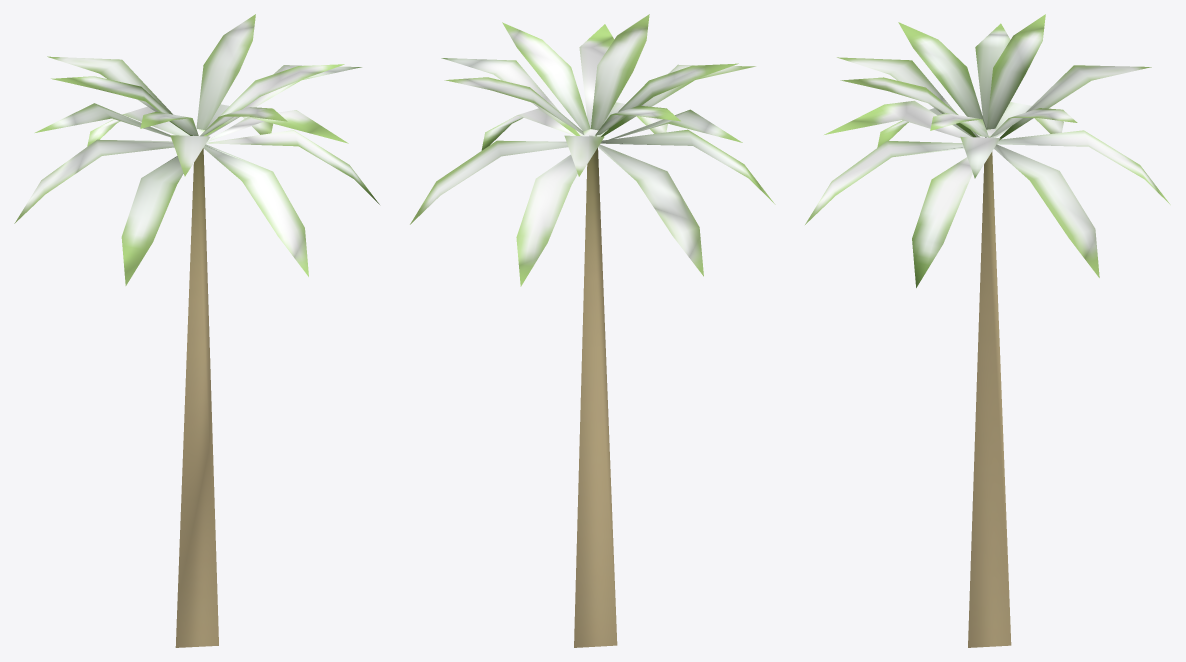
3 views of the same model, side by side, from view 1: azimuth 30°, elevation 25°; view 2: azimuth 150°, elevation 25°; view 3: azimuth 270°, elevation 25° (orthographic).
Parts seen in each view (by area): view 1: wLODPalm1; view 2: wLODPalm1; view 3: wLODPalm1.
Part boxes in pixels (x1,y1,x2,y2): wLODPalm1: (14, 14, 379, 647); wLODPalm1: (410, 14, 775, 647); wLODPalm1: (805, 14, 1170, 647).
Bounding box in the file's own units: 10.96 × 18.9 × 11.02.
1 material, 1 textured.
